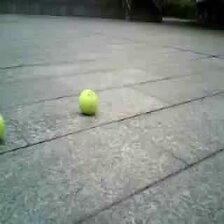tennis: (77, 88, 99, 112)
